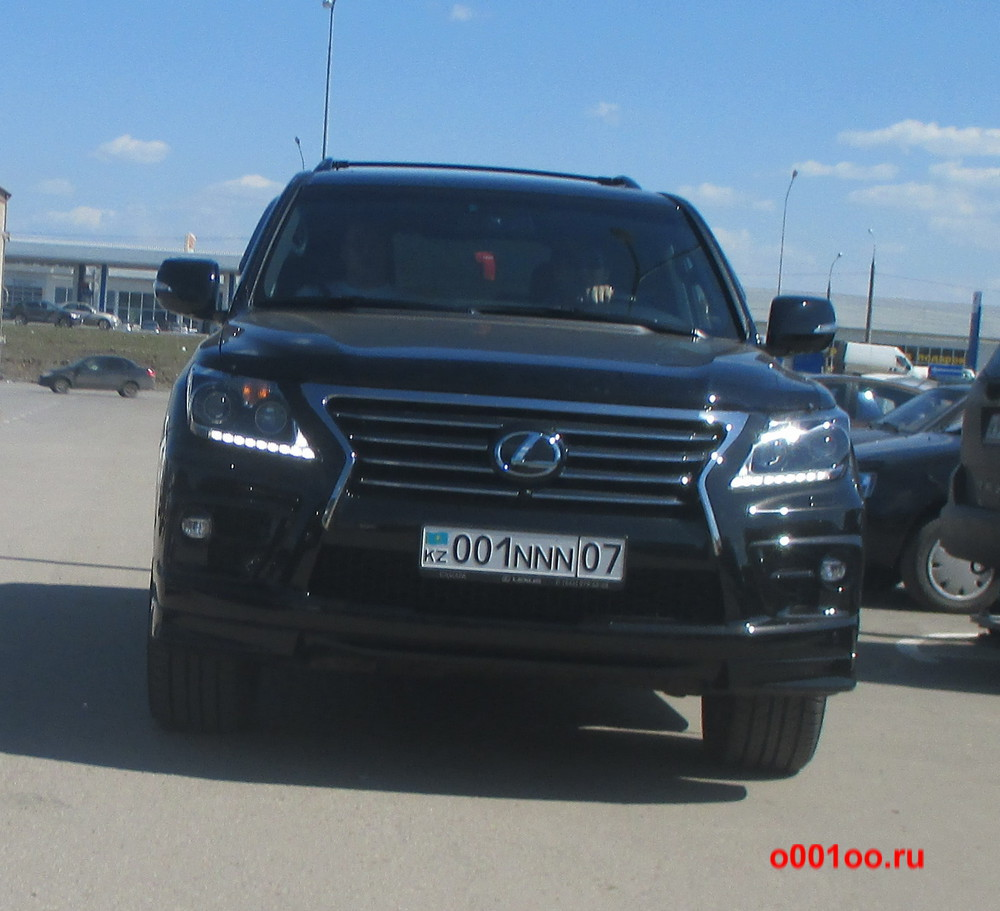license_plate: (418, 521, 633, 584)
